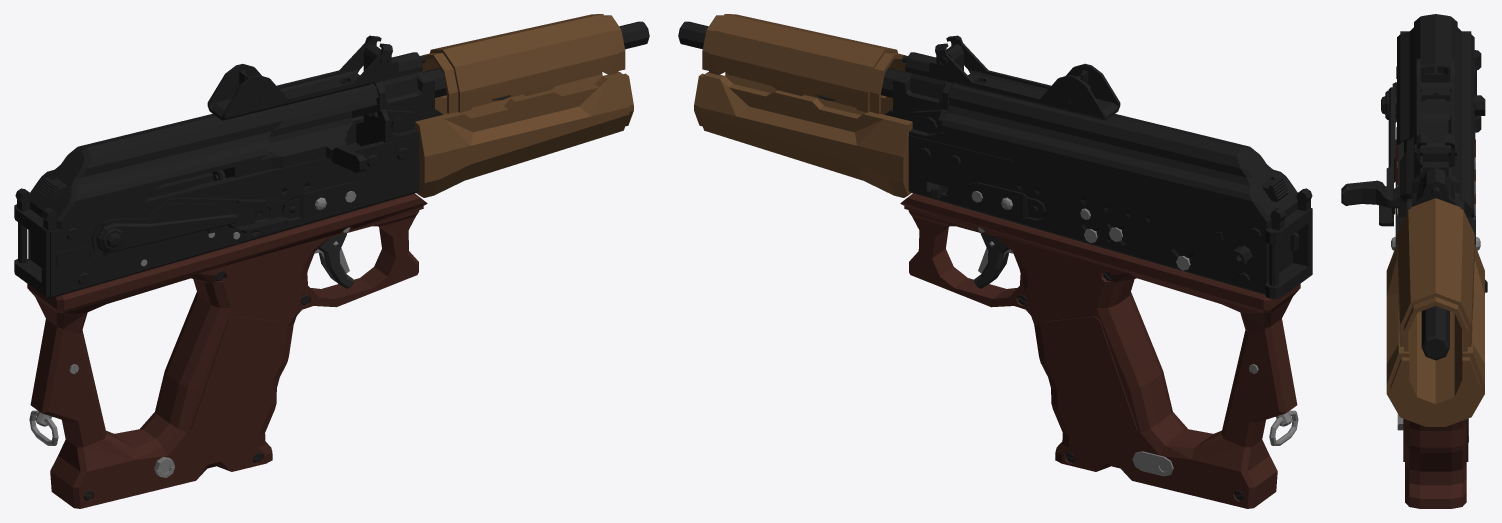
The model's file is gepard_smg.glb.
The picture shows the model from 3 angles, left to right: view 1: azimuth 30°, elevation 25°; view 2: azimuth 150°, elevation 25°; view 3: azimuth 270°, elevation 25°; orthographic projection. The views are drawn at different scales.
Visible parts, largest first — view 1: gepard receiver_6 (×3), gepard handguard_5, gepard dust cover_4, gepard selector_0, 921g gepard bolt carrier_3, gepard trigga_12; view 2: gepard receiver_6 (×3), gepard dust cover_4, gepard handguard_5, 921g gepard bolt carrier_3, gepard trigga_12; view 3: gepard handguard_5, gepard dust cover_4, gepard receiver_6 (×3), 921g gepard bolt carrier_3, gepard selector_0.
Part boxes in pixels (x1,y1,x2,y2): gepard receiver_6 (×3): (14, 44, 442, 508); gepard handguard_5: (415, 14, 633, 197); gepard dust cover_4: (30, 35, 392, 228); gepard selector_0: (91, 197, 285, 256); 921g gepard bolt carrier_3: (211, 21, 649, 180); gepard trigga_12: (318, 233, 353, 288); gepard receiver_6 (×3): (885, 44, 1312, 508); gepard dust cover_4: (935, 35, 1297, 228); gepard handguard_5: (694, 14, 912, 197); 921g gepard bolt carrier_3: (678, 21, 904, 97); gepard trigga_12: (974, 233, 1009, 288); gepard handguard_5: (1386, 198, 1484, 426); gepard dust cover_4: (1397, 14, 1474, 217); gepard receiver_6 (×3): (1391, 31, 1487, 508); 921g gepard bolt carrier_3: (1341, 136, 1449, 360); gepard selector_0: (1379, 82, 1475, 226).
Size of the model in its own units: 3.62 by 2.16 by 0.6541.
